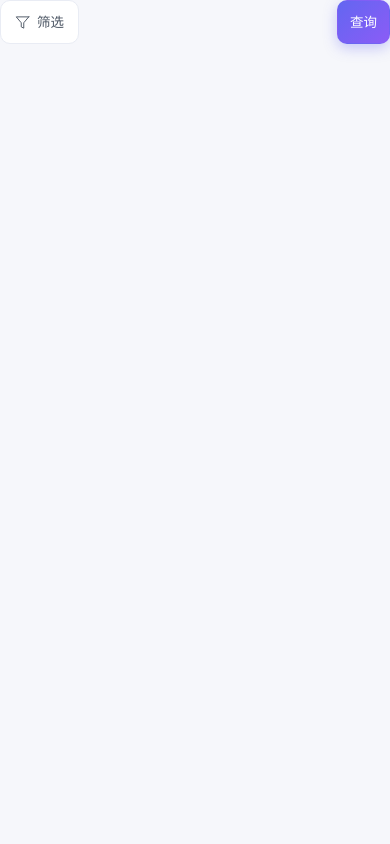
Test: FilterBar › chips 槽位：桌面渲染在筛选条下方，Sheet 内同样可见
Click the button "筛选" at (40, 22), box [0,0,79,44]
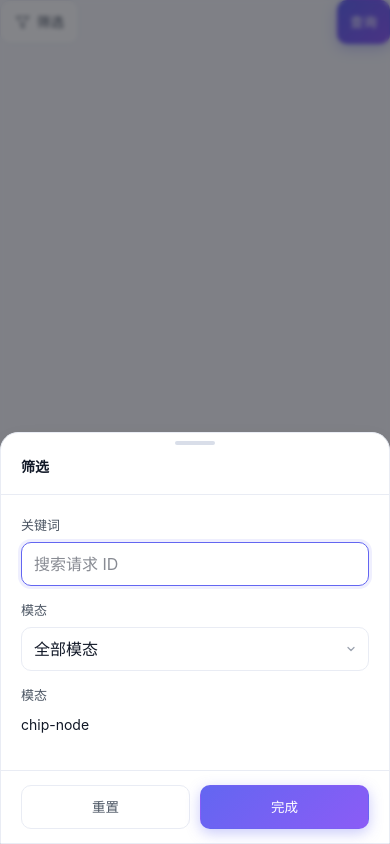
Check: the dialog with class "filter-sheet" shows "模态", box [21,602,47,618]
Check: the dialog with class "filter-sheet" shows "chip-node", box [21,716,89,733]
